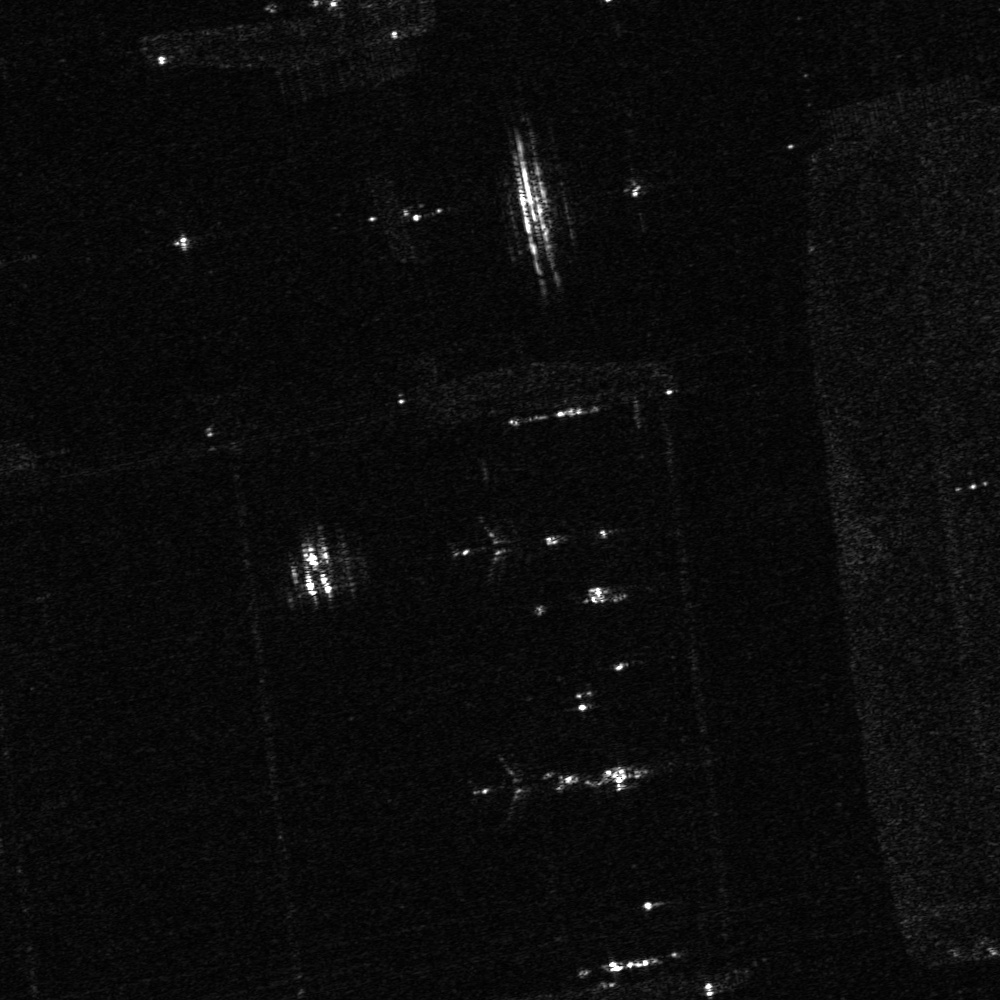Boeing737: (458, 750, 561, 833), (440, 505, 531, 587)
